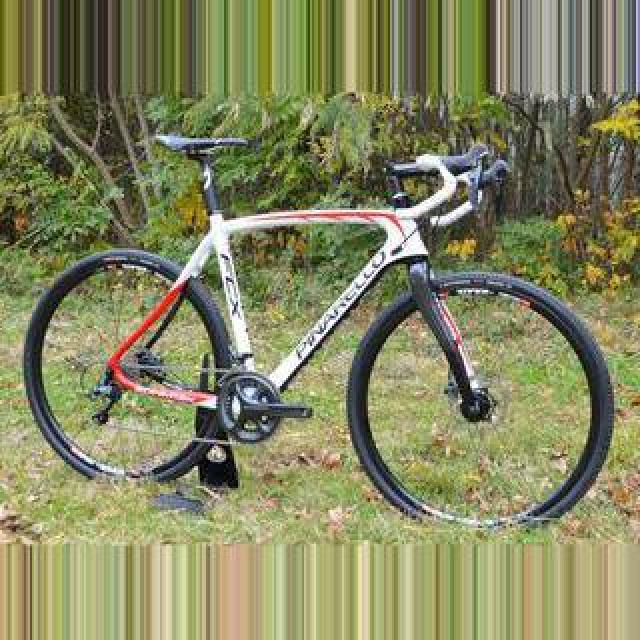Person: (19, 133, 619, 529)
